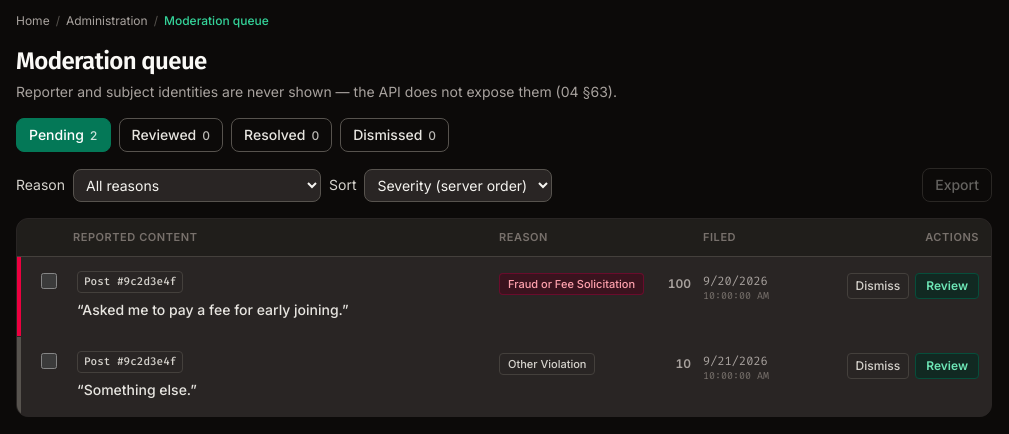
Scenario: AdminReportsPage (9.5 Task 8) › filters by reason client-side without refetching
Expected: the element with test id "reports-list" is shown, [16,218,992,417]
Select "Fraud or Fee Solicitation" in the dropdown with test id "reason-filter": [197, 185] box [73,168,321,202]
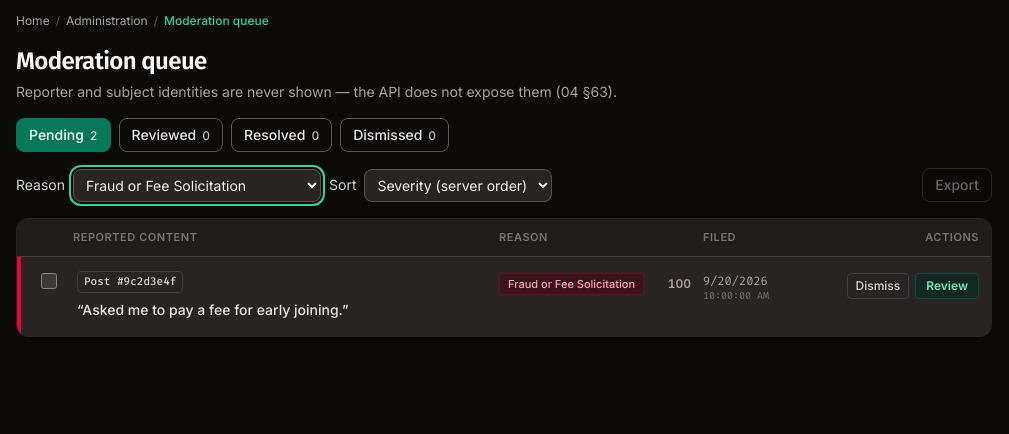
Expected: the list item with test id "report-row" shows "Fraud or Fee Solicitation", [508,276,635,290]
Result: the number of list items with test id "report-row" is 1 at [17,256,991,336]
